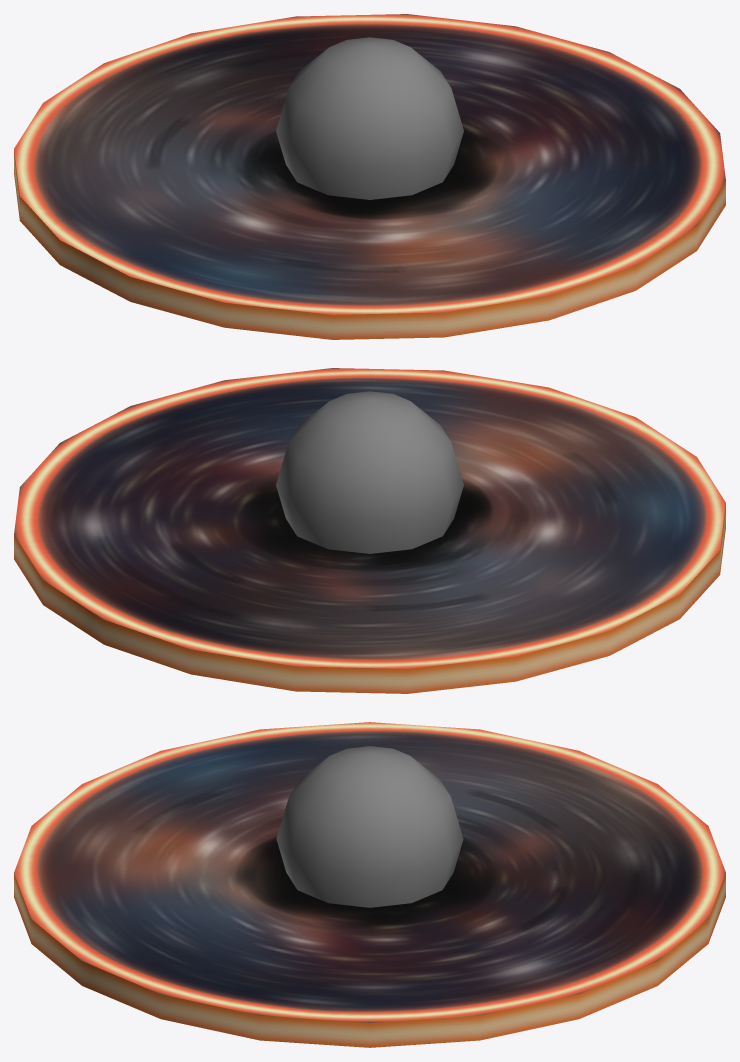
Rendered from BlackHole_Trap.fbx.
3 renders of one model, top to bottom at view 1: azimuth 30°, elevation 25°; view 2: azimuth 150°, elevation 25°; view 3: azimuth 270°, elevation 25°, orthographic.
Parts seen in each view (by area): view 1: BlackHole_Trap, Singularity; view 2: BlackHole_Trap, Singularity; view 3: BlackHole_Trap, Singularity.
Part boxes in pixels (x1,y1,x2,y2): BlackHole_Trap: (14, 14, 725, 339); Singularity: (276, 37, 463, 199); BlackHole_Trap: (14, 368, 725, 693); Singularity: (276, 391, 463, 553); BlackHole_Trap: (14, 722, 725, 1047); Singularity: (276, 746, 463, 907).
Size of the model in its own units: 88.79 by 19.67 by 88.79.
2 materials, 1 textured.
